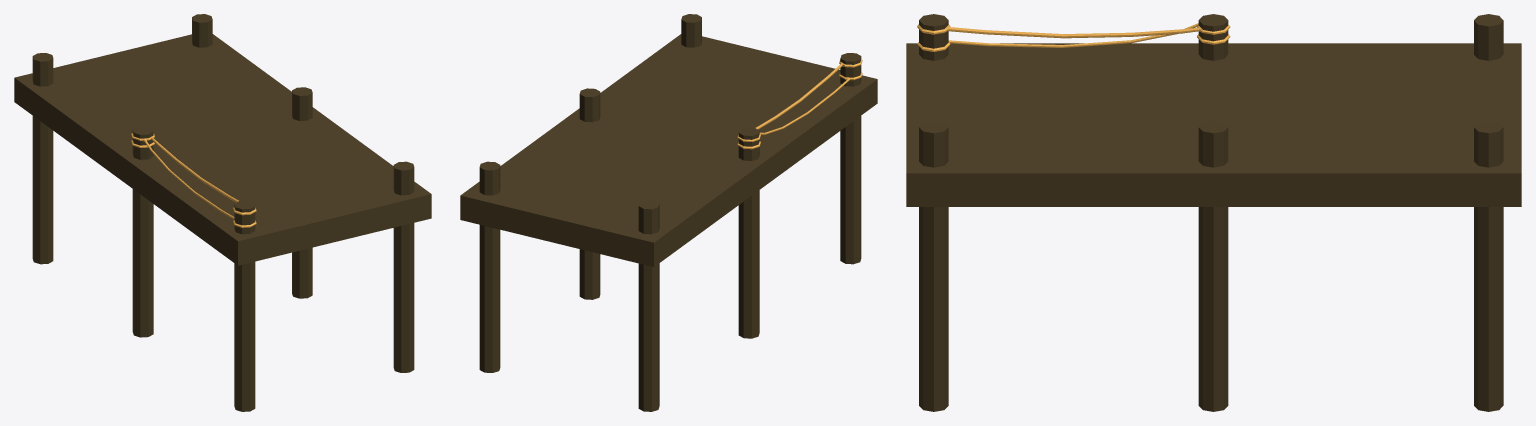
File: Dock.fbx
The picture shows the model from 3 angles, left to right: view 1: azimuth 30°, elevation 25°; view 2: azimuth 150°, elevation 25°; view 3: azimuth 270°, elevation 25°; orthographic projection. The views are drawn at different scales.
Parts seen in each view (by area): view 1: Dock; view 2: Dock; view 3: Dock.
Boxes of the visible parts, bbox=[...] form: Dock: bbox=[14, 14, 431, 411]; Dock: bbox=[460, 14, 877, 411]; Dock: bbox=[906, 14, 1521, 411].
Size of the model in its own units: 154 by 154 by 309.
